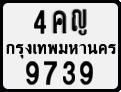letters: (71, 8, 87, 36), (43, 60, 58, 86), (79, 60, 94, 85), (33, 9, 47, 35), (53, 10, 67, 35), (63, 60, 76, 85), (26, 61, 39, 85)
province: (6, 43, 117, 60)
